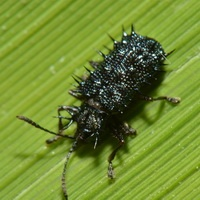insect: (16, 24, 180, 199)
